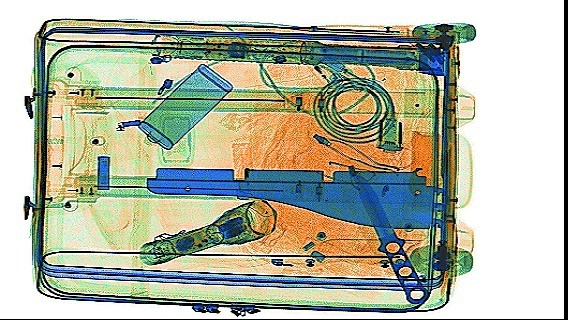knife: (352, 170, 431, 304)
lighter: (302, 56, 340, 91)
zippooil: (137, 61, 233, 149)
